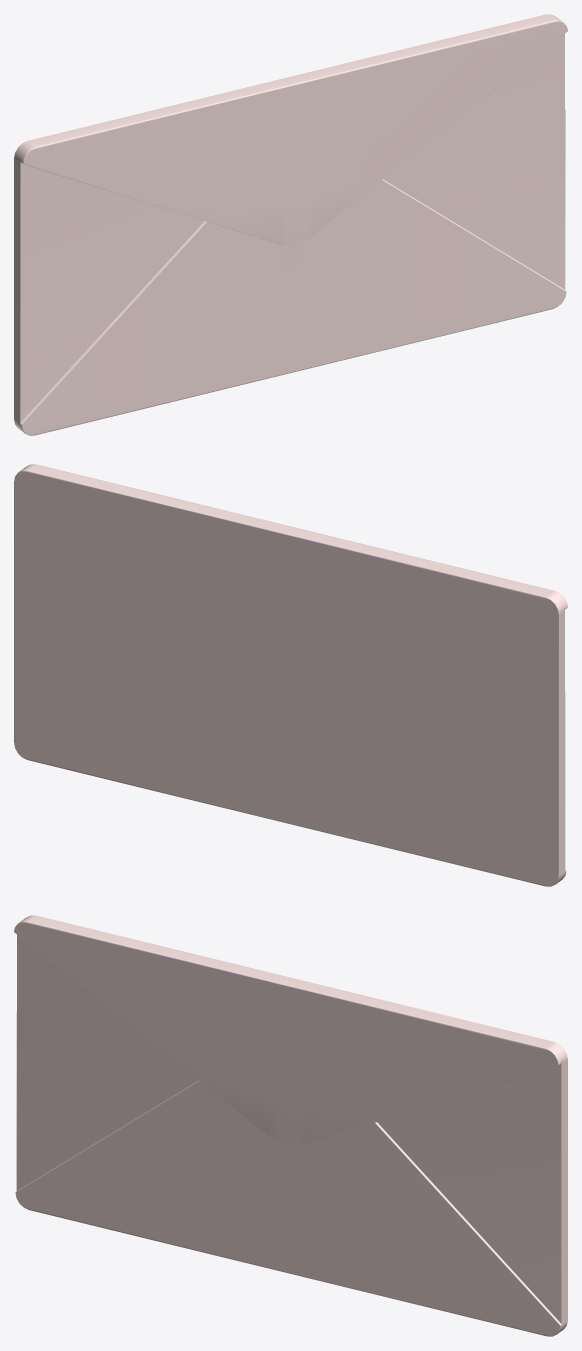
The model's file is Public_6_Letter_2.glb.
3 views of the same model, one above another, from view 1: azimuth 30°, elevation 25°; view 2: azimuth 150°, elevation 25°; view 3: azimuth 330°, elevation 25° (orthographic).
Parts seen in each view (by area): view 1: Public_6_Letter_2; view 2: Public_6_Letter_2; view 3: Public_6_Letter_2.
Boxes of the visible parts, x1=… form: Public_6_Letter_2: x1=14, y1=14, x2=567, y2=435; Public_6_Letter_2: x1=14, y1=464, x2=567, y2=886; Public_6_Letter_2: x1=14, y1=915, x2=567, y2=1336.
Bounding box in the file's own units: 4.16 × 2.11 × 0.1233.
Materials: 1 (1 with a texture image).
